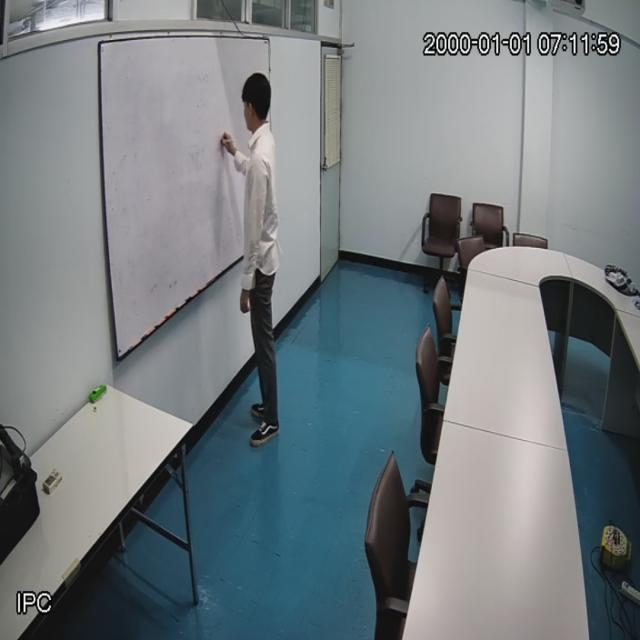normal: (224, 71, 284, 447)
